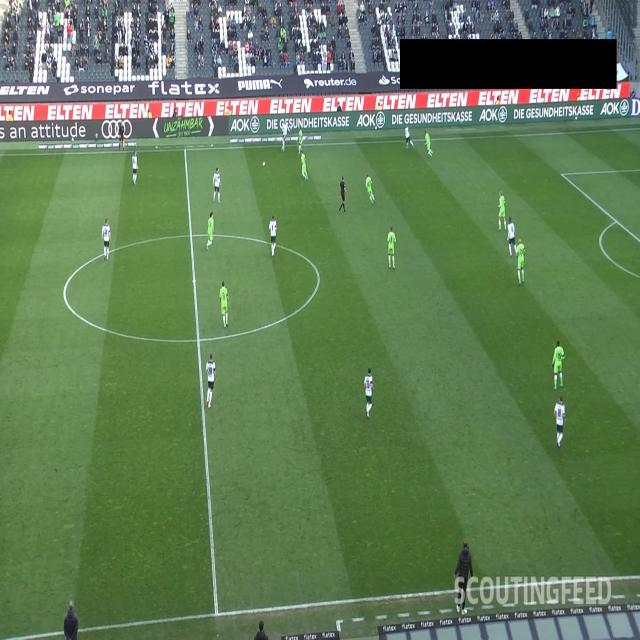ball: (262, 160, 266, 168)
